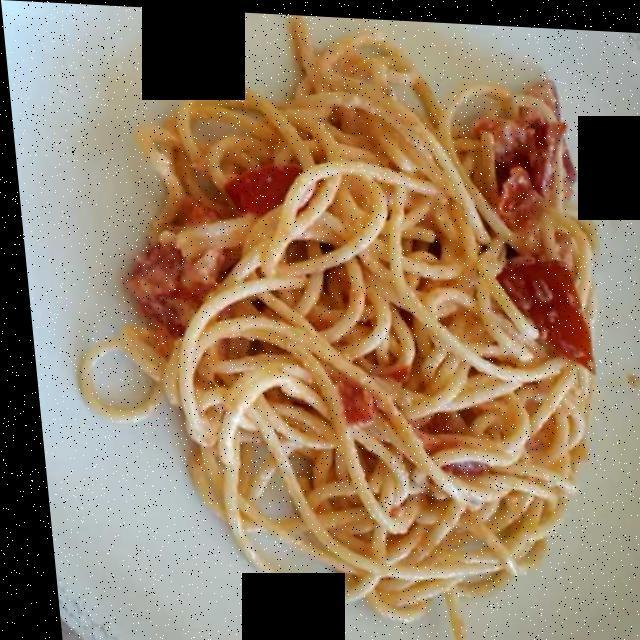pasta: (79, 34, 585, 614)
tomato-sauce: (101, 80, 582, 459)
